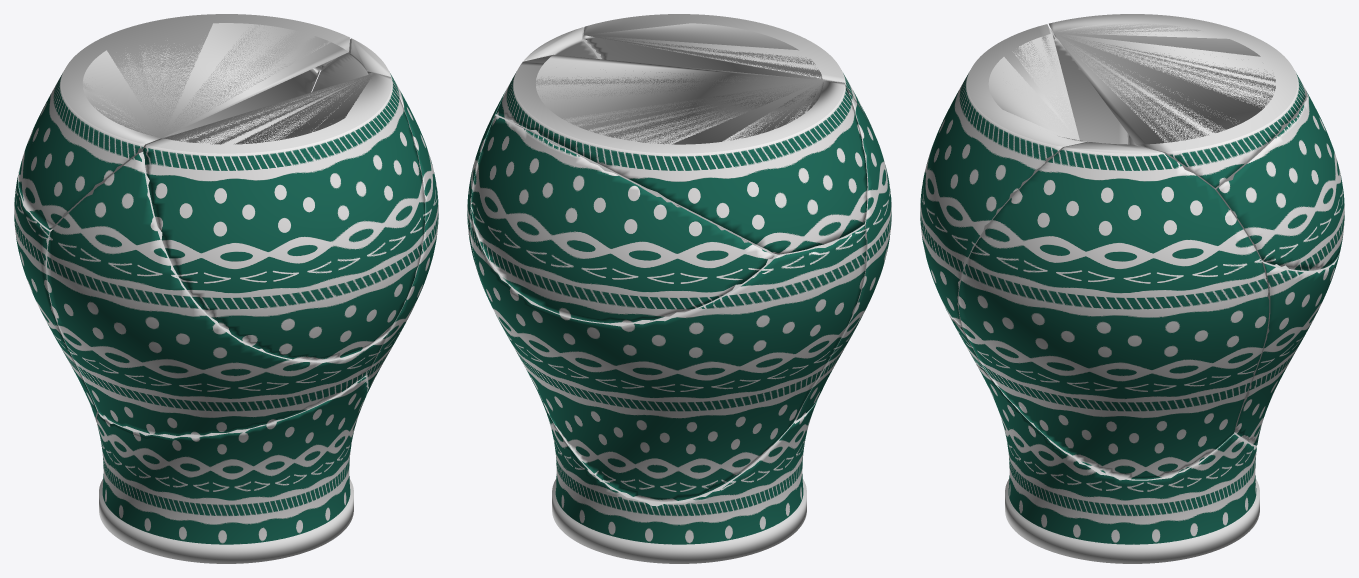
The model's file is VASEDUDEBUT.fbx.
3 renders of one model, left to right at view 1: azimuth 30°, elevation 25°; view 2: azimuth 150°, elevation 25°; view 3: azimuth 270°, elevation 25°, orthographic.
Parts seen in each view (by area): view 1: Object_4_cell.006, Object_4_cell, Object_4_cell.005, Object_4_cell.002, Object_4_cell.004, Object_4_cell.007, Object_4_cell.003, Object_4_cell.001; view 2: Object_4_cell.003, Object_4_cell.005, Object_4_cell.001, Object_4_cell.002, Object_4_cell.006, Object_4_cell.007, Object_4_cell, Object_4_cell.004; view 3: Object_4_cell.004, Object_4_cell.005, Object_4_cell.006, Object_4_cell.002, Object_4_cell.001, Object_4_cell.003, Object_4_cell.007, Object_4_cell.
Part boxes in pixels (<box>): Object_4_cell.006: <box>143,71,424,360</box>; Object_4_cell: <box>47,152,387,435</box>; Object_4_cell.005: <box>18,14,350,229</box>; Object_4_cell.002: <box>96,375,367,544</box>; Object_4_cell.004: <box>312,38,438,394</box>; Object_4_cell.007: <box>99,479,353,563</box>; Object_4_cell.003: <box>14,175,98,421</box>; Object_4_cell.001: <box>18,68,319,175</box>; Object_4_cell.003: <box>470,207,866,501</box>; Object_4_cell.005: <box>496,54,867,254</box>; Object_4_cell.001: <box>471,115,774,323</box>; Object_4_cell.002: <box>547,397,818,544</box>; Object_4_cell.006: <box>583,14,873,130</box>; Object_4_cell.007: <box>552,479,806,563</box>; Object_4_cell: <box>677,93,891,420</box>; Object_4_cell.004: <box>467,27,676,413</box>; Object_4_cell.004: <box>958,142,1269,479</box>; Object_4_cell.005: <box>1049,14,1306,188</box>; Object_4_cell.006: <box>920,24,1087,325</box>; Object_4_cell.002: <box>975,362,1256,544</box>; Object_4_cell.001: <box>1214,91,1344,270</box>; Object_4_cell.003: <box>1128,134,1339,445</box>; Object_4_cell.007: <box>1005,479,1259,563</box>; Object_4_cell: <box>949,29,1128,367</box>.
Size of the model in its own units: 60.32 by 66.85 by 60.33.
